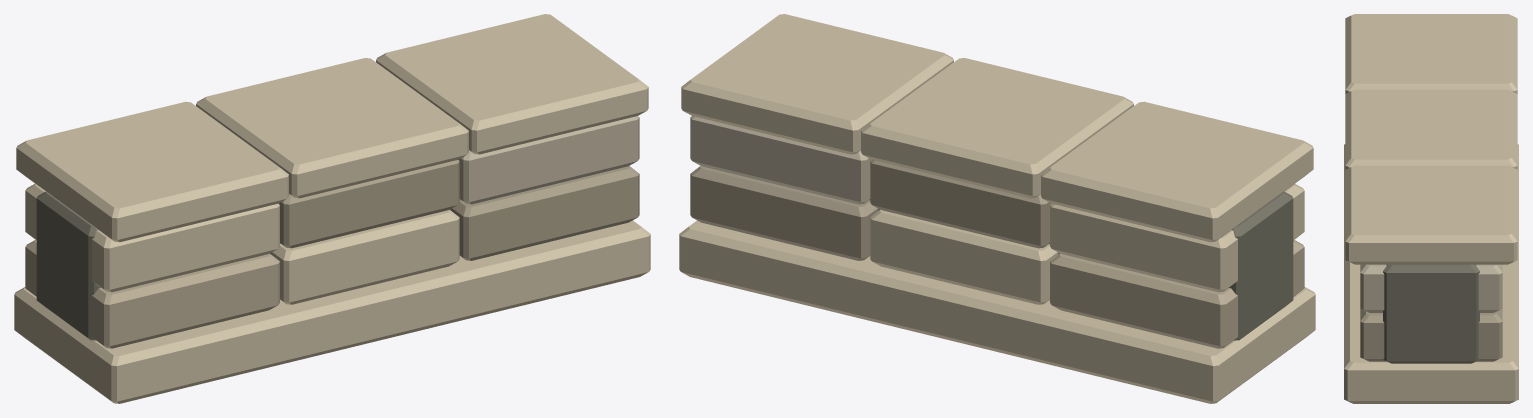
Rendered from Parapet_2m.fbx.
The picture shows the model from 3 angles, left to right: view 1: azimuth 30°, elevation 25°; view 2: azimuth 150°, elevation 25°; view 3: azimuth 270°, elevation 25°; orthographic projection. The views are drawn at different scales.
Parts seen in each view (by area): view 1: Parapet_2m; view 2: Parapet_2m; view 3: Parapet_2m.
Boxes of the visible parts, <box> form: Parapet_2m: <box>14,14,650,403</box>; Parapet_2m: <box>679,14,1315,403</box>; Parapet_2m: <box>1344,14,1518,403</box>.
Bounding box in the file's own units: 2 × 0.69 × 0.65.
